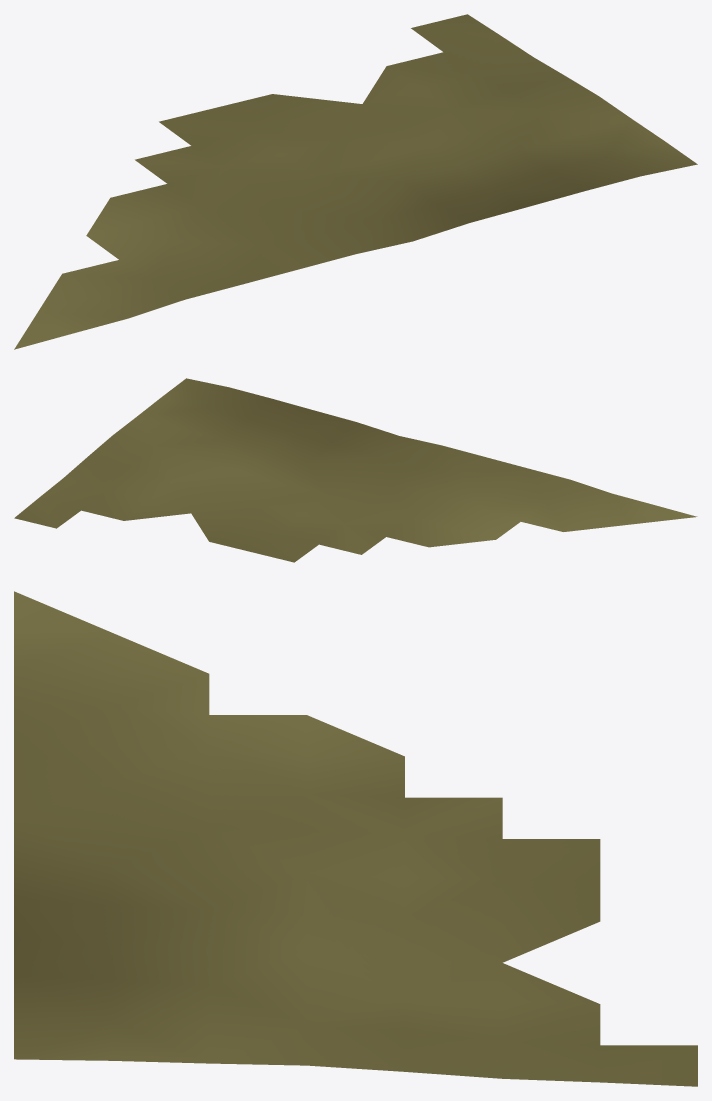
The model's file is terrain_lod1_-3_-6.obj.
3 views of the same model, one above another, from view 1: azimuth 30°, elevation 25°; view 2: azimuth 150°, elevation 25°; view 3: azimuth 270°, elevation 25° (orthographic). The views are drawn at different scales.
Parts seen in each view (by area): view 1: terrain_lod1_-3_-6; view 2: terrain_lod1_-3_-6; view 3: terrain_lod1_-3_-6.
Part boxes in pixels (x1,y1,x2,y2): terrain_lod1_-3_-6: (14, 14, 697, 349); terrain_lod1_-3_-6: (14, 378, 697, 562); terrain_lod1_-3_-6: (14, 591, 697, 1086).
Size of the model in its own units: 96 by 2.74 by 56.
